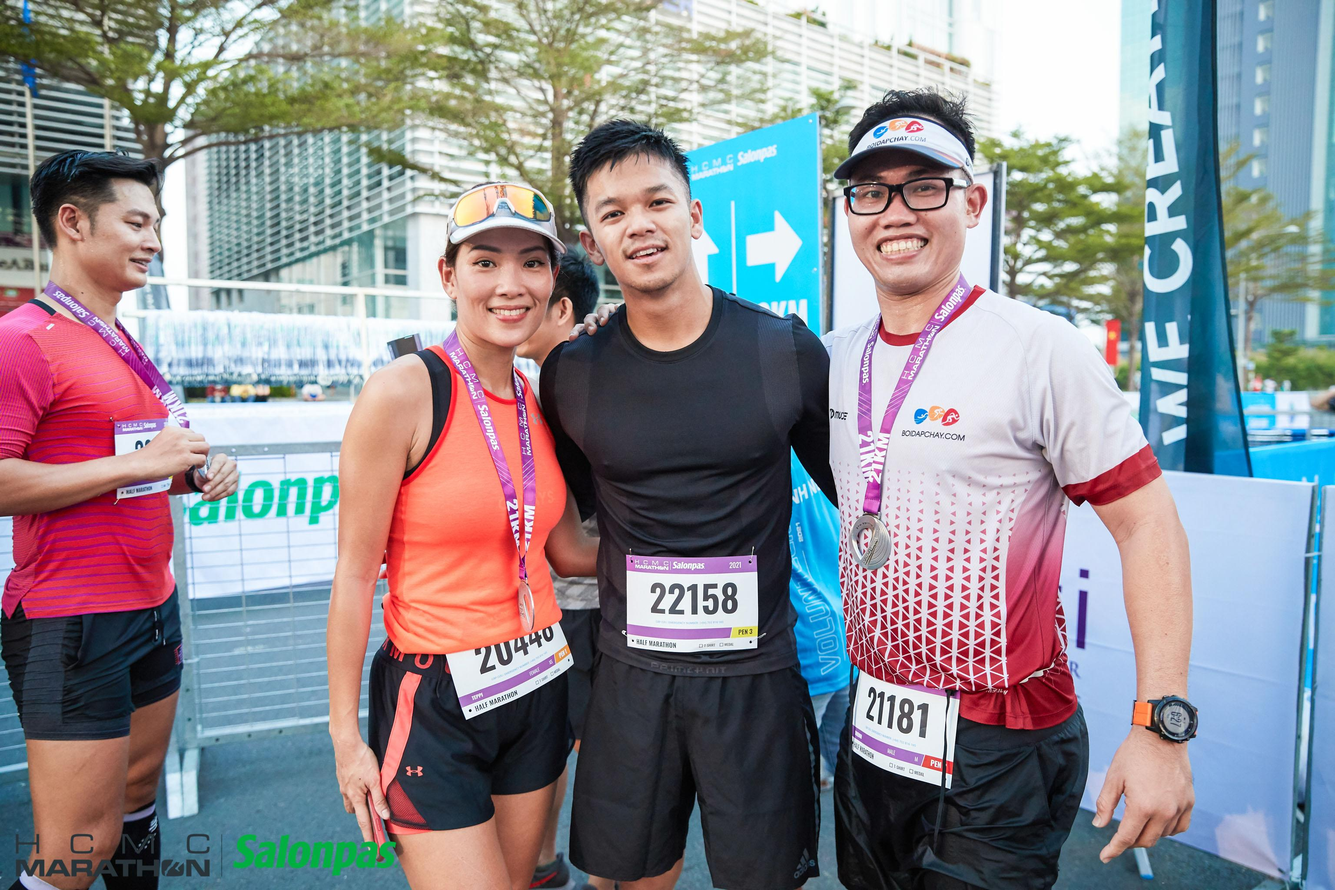bib: (624, 550, 763, 655), (850, 667, 956, 792), (443, 621, 579, 715), (113, 418, 178, 498)
